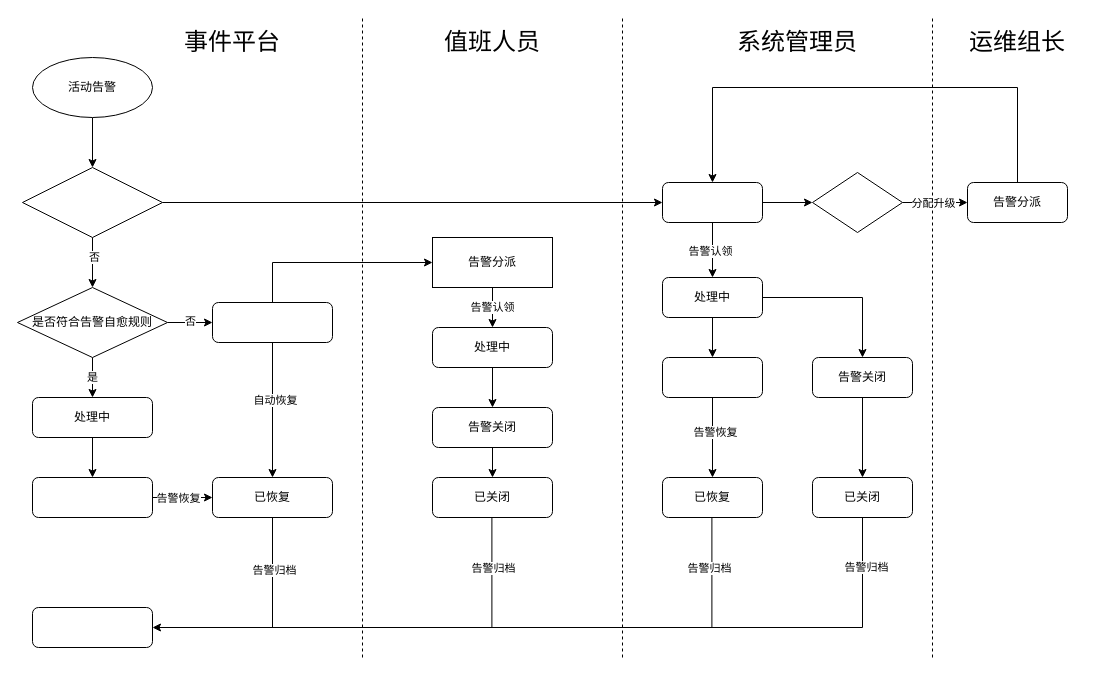
Image size: 1100x676. Some labels were removed from this diagram. Here are the shapes that lost their labels. From the top down, the centre of each, then its label:
the point at 92,202: 是否符合告警分派规则
the point at 712,202: 未响应
the point at 857,202: 是否未响应
the point at 272,322: 未分派
the point at 712,377: 告警处理
the point at 92,497: 告警自愈
the point at 92,627: 已归档
